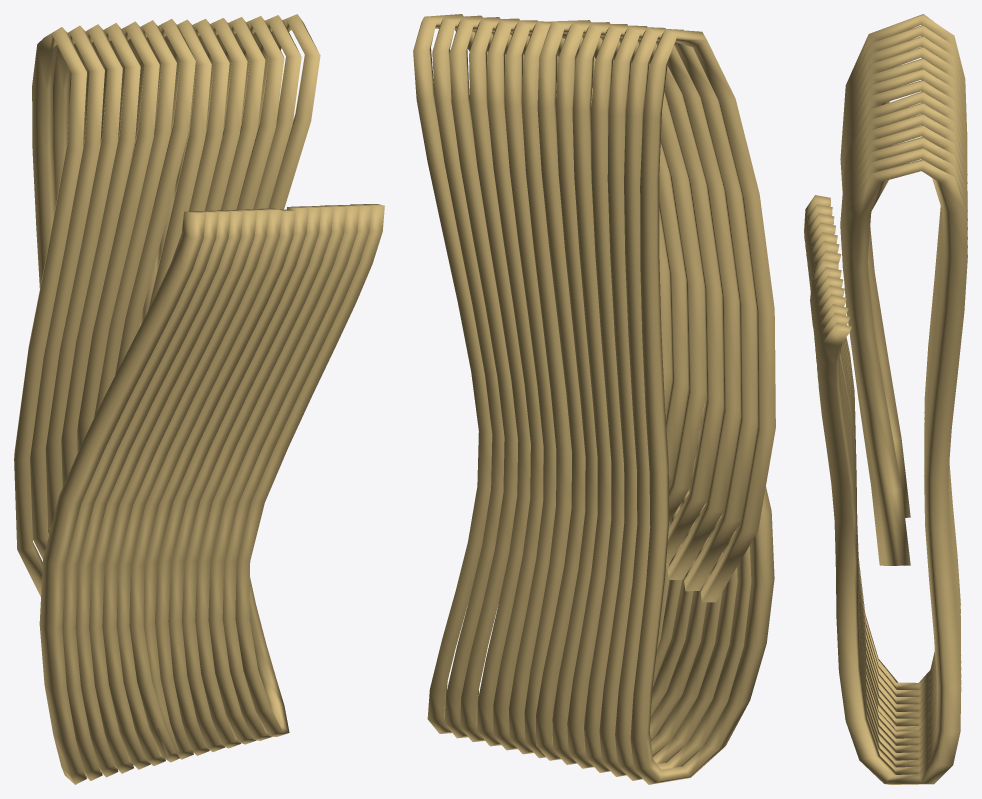
Rendered from Noodles.glb.
The picture shows the model from 3 angles, left to right: view 1: azimuth 30°, elevation 25°; view 2: azimuth 150°, elevation 25°; view 3: azimuth 270°, elevation 25°; orthographic projection. The views are drawn at different scales.
Parts seen in each view (by area): view 1: Noodles; view 2: Noodles; view 3: Noodles.
Boxes of the visible parts, x1,y1,x2,y2 form: Noodles: (14, 14, 384, 784); Noodles: (413, 14, 775, 784); Noodles: (804, 14, 967, 784).
Bounding box in the file's own units: 0.1398 × 0.283 × 0.0616.
